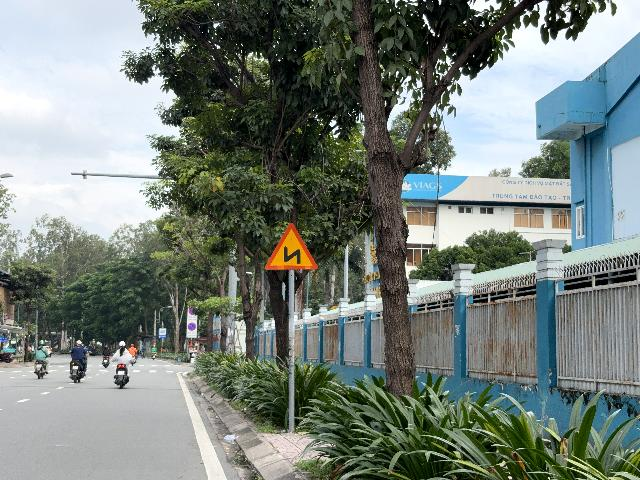nhieu-cho-ngoat-nguy-hiem-lien-tiep: (264, 223, 318, 269)
